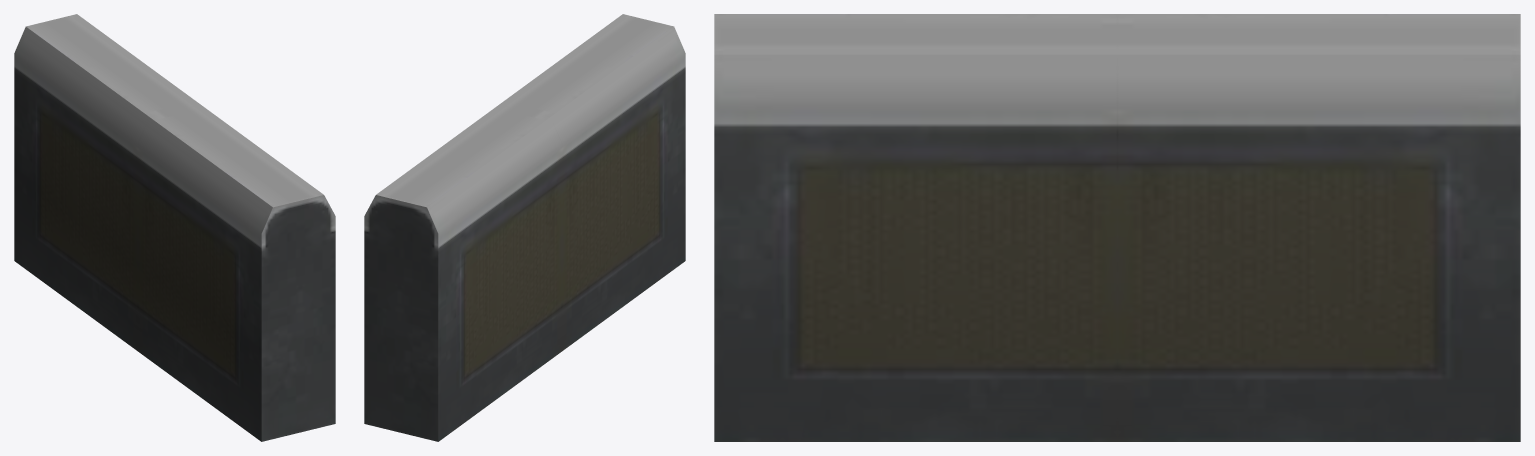
The model's file is Part - Fence 04-sJpHUrvb.glb.
3 renders of one model, left to right at view 1: azimuth 30°, elevation 25°; view 2: azimuth 150°, elevation 25°; view 3: azimuth 270°, elevation 25°, orthographic. The views are drawn at different scales.
Visible parts, largest first — view 1: Fence_04; view 2: Fence_04; view 3: Fence_04.
Boxes of the visible parts, left/top/right/bottom form: Fence_04: left=14, top=14, right=335, bottom=441; Fence_04: left=364, top=14, right=685, bottom=441; Fence_04: left=714, top=14, right=1520, bottom=441.
Size of the model in its own units: 0.2454 by 0.7344 by 1.42.
Materials: 1 (1 with a texture image).
